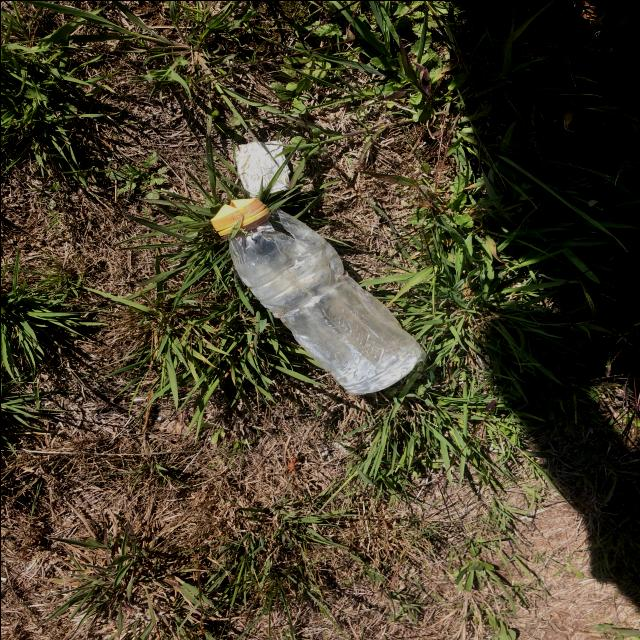Aluminium foil: (233, 141, 289, 196)
Clear plastic bottle: (209, 197, 426, 394)
Plastic bottle cap: (209, 196, 264, 230)
